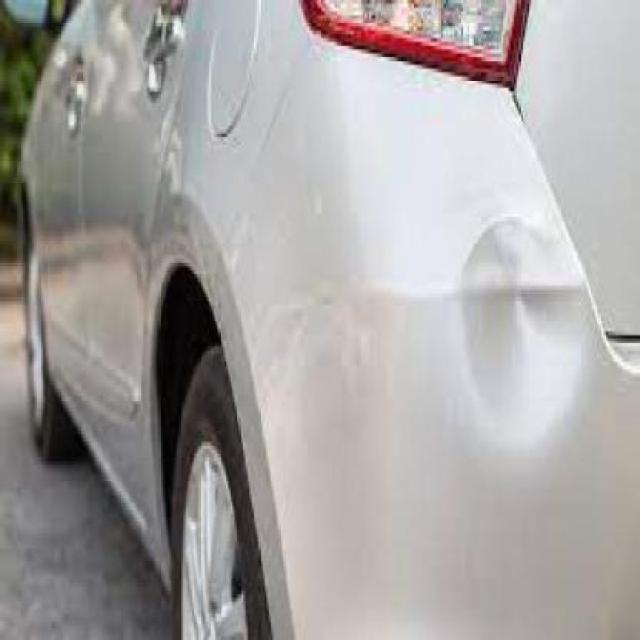rear-bumper-dent: (243, 31, 602, 637)
